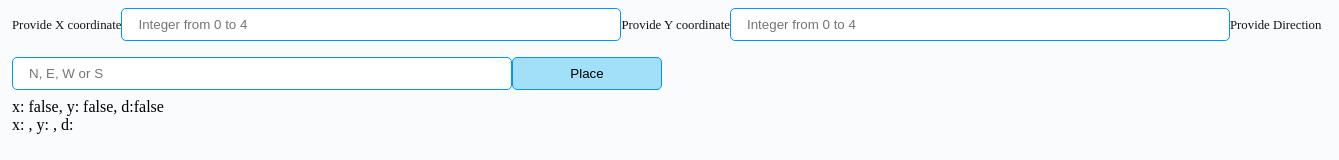
Test case: Placement form should set correct values
Check: the text with test id "positionHookTest" reads "x: , y: , d:", box [12,116,73,133]
Type "4" into the number field with test id "xDataInput".
click(372, 24); type("4")  # box [122,8,622,41]
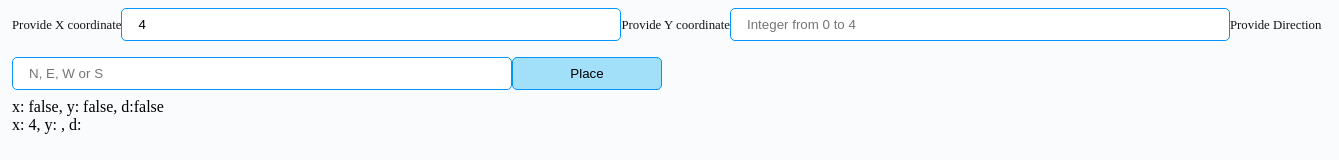
Type "4" into the number field with test id "yDataInput".
click(980, 24); type("4")  # box [730,8,1230,41]
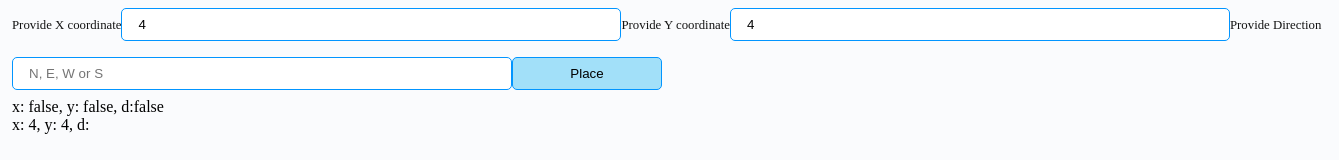
Type "N" into the field with test id "dirDataInput".
click(262, 74); type("N")  # box [12,57,512,90]
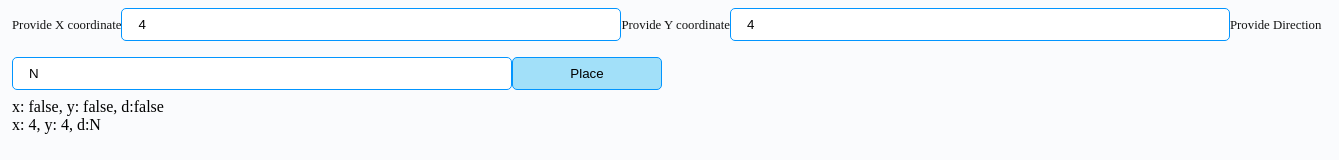
Check: the text with test id "positionHookTest" reads "x: 4, y: 4, d:N", box [12,116,101,133]
